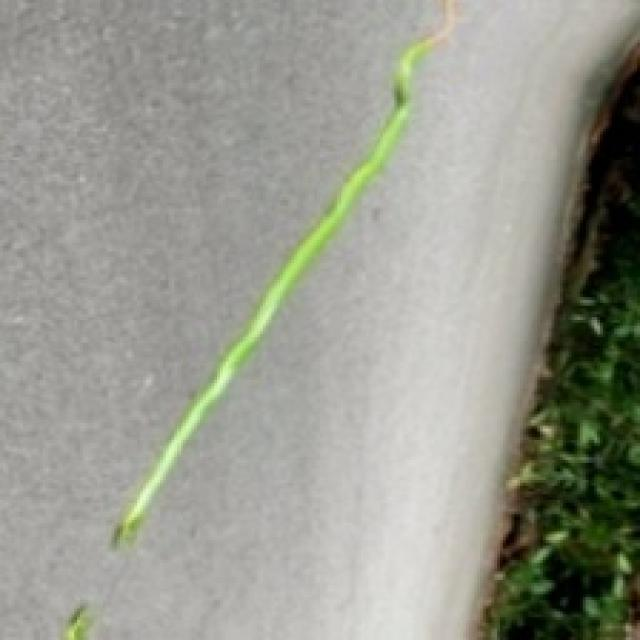red-tailed green ratsnake: (112, 0, 455, 544)
